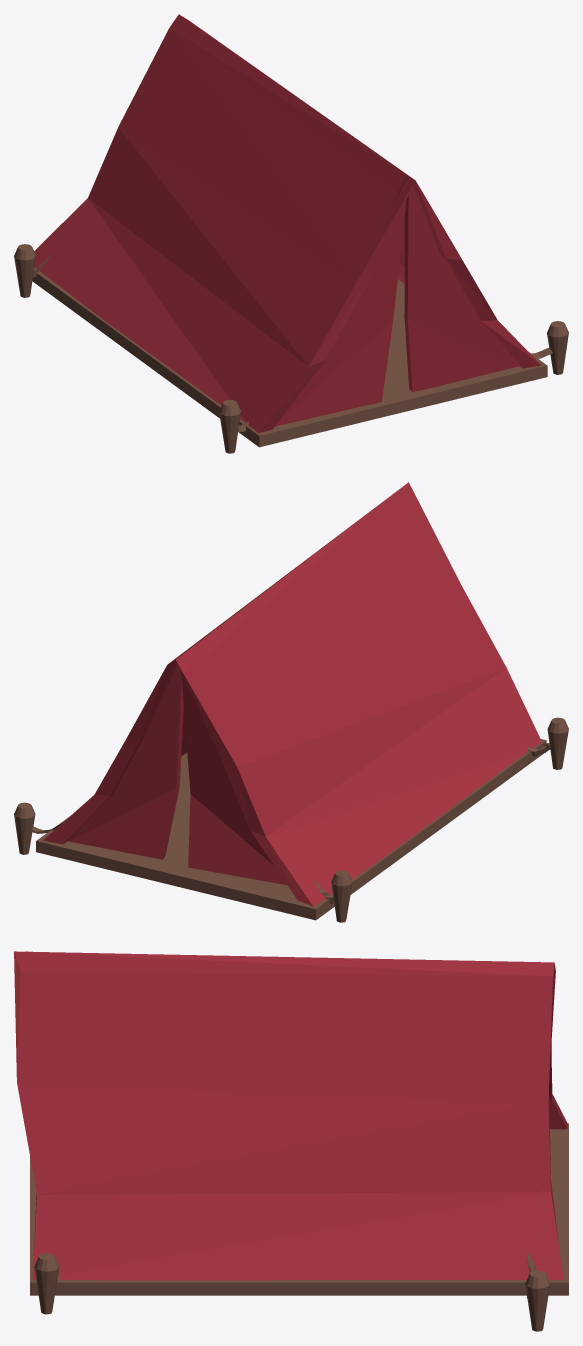
Rendered from palatka2.fbx.
3 views of the same model, one above another, from view 1: azimuth 30°, elevation 25°; view 2: azimuth 150°, elevation 25°; view 3: azimuth 270°, elevation 25° (orthographic). The views are drawn at different scales.
Visible parts, largest first — view 1: model; view 2: model; view 3: model.
Part boxes in pixels (<box>): model: <box>14,14,568,453</box>; model: <box>14,482,568,922</box>; model: <box>14,951,568,1331</box>.
Size of the model in its own units: 129 by 88.07 by 154.
